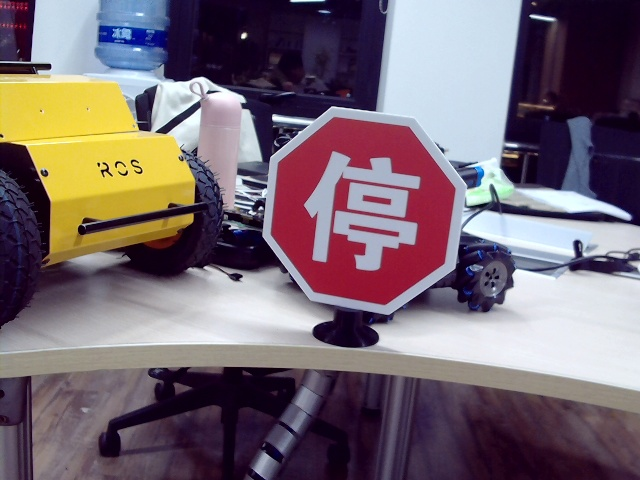stop: (304, 143, 418, 275)
